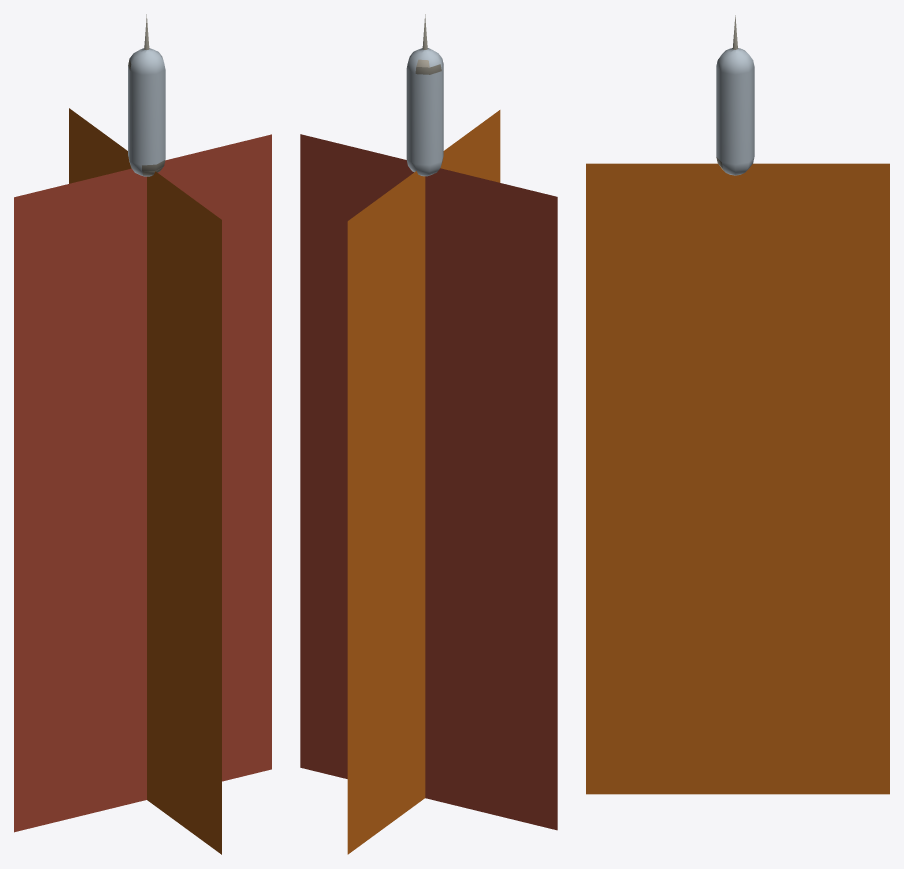
Rendered from itch_assetquest_pond_cattail_1.glb.
3 renders of one model, left to right at view 1: azimuth 30°, elevation 25°; view 2: azimuth 150°, elevation 25°; view 3: azimuth 270°, elevation 25°, orthographic.
Visible parts, largest first — view 1: Cat_Tail_1; view 2: Cat_Tail_1; view 3: Cat_Tail_1.
Part boxes in pixels (<box>): Cat_Tail_1: <box>14,14,271,854</box>; Cat_Tail_1: <box>300,14,557,854</box>; Cat_Tail_1: <box>586,15,889,794</box>.
Size of the model in its own units: 0.6354 by 1.85 by 0.6527.
